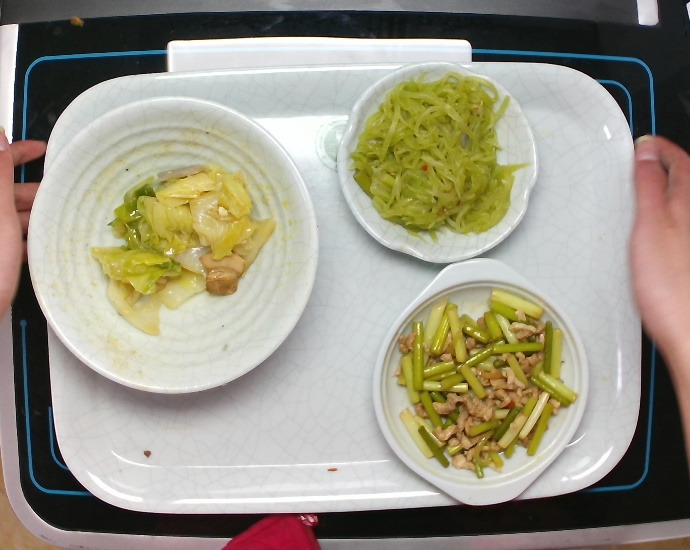JYsf-Ao_Yuan_Wan: (338, 62, 542, 268)
JYsf-Shuang_Er_Pan: (371, 256, 592, 511)
JYsf-Xiao_Tang_Wan: (23, 90, 318, 393)
